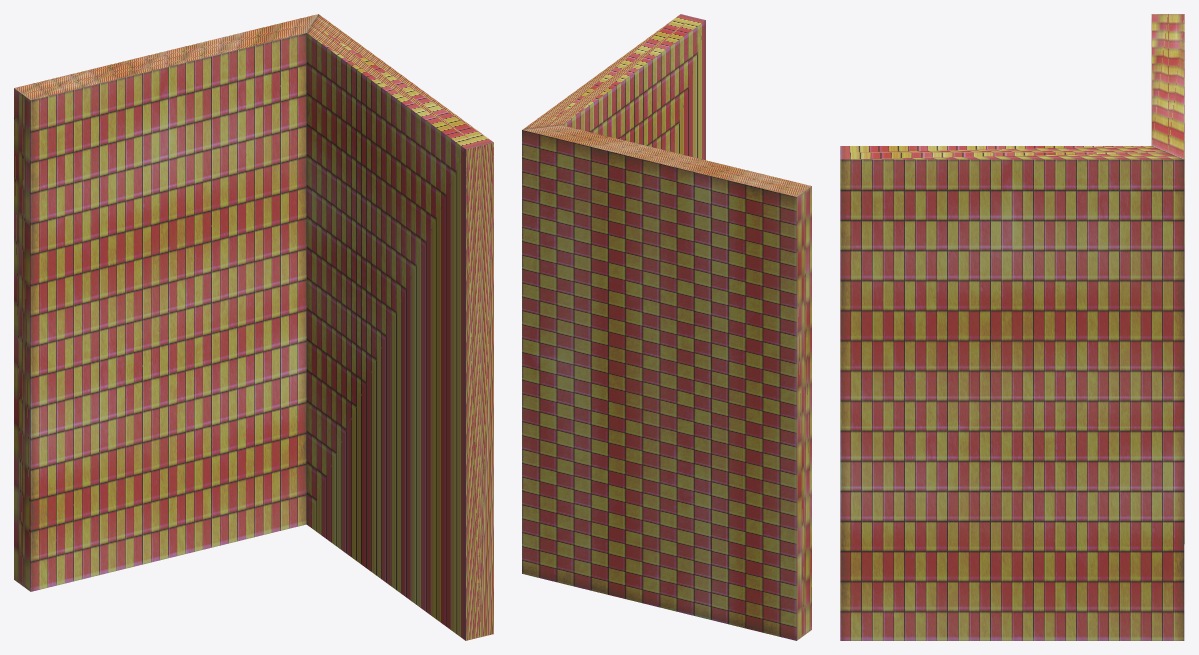
Rendered from wall-corner-BL.obj.
3 renders of one model, left to right at view 1: azimuth 30°, elevation 25°; view 2: azimuth 150°, elevation 25°; view 3: azimuth 270°, elevation 25°, orthographic. The views are drawn at different scales.
Bounding box in the file's own units: 1.98 × 3.06 × 1.98.
2 materials, 2 textured.
